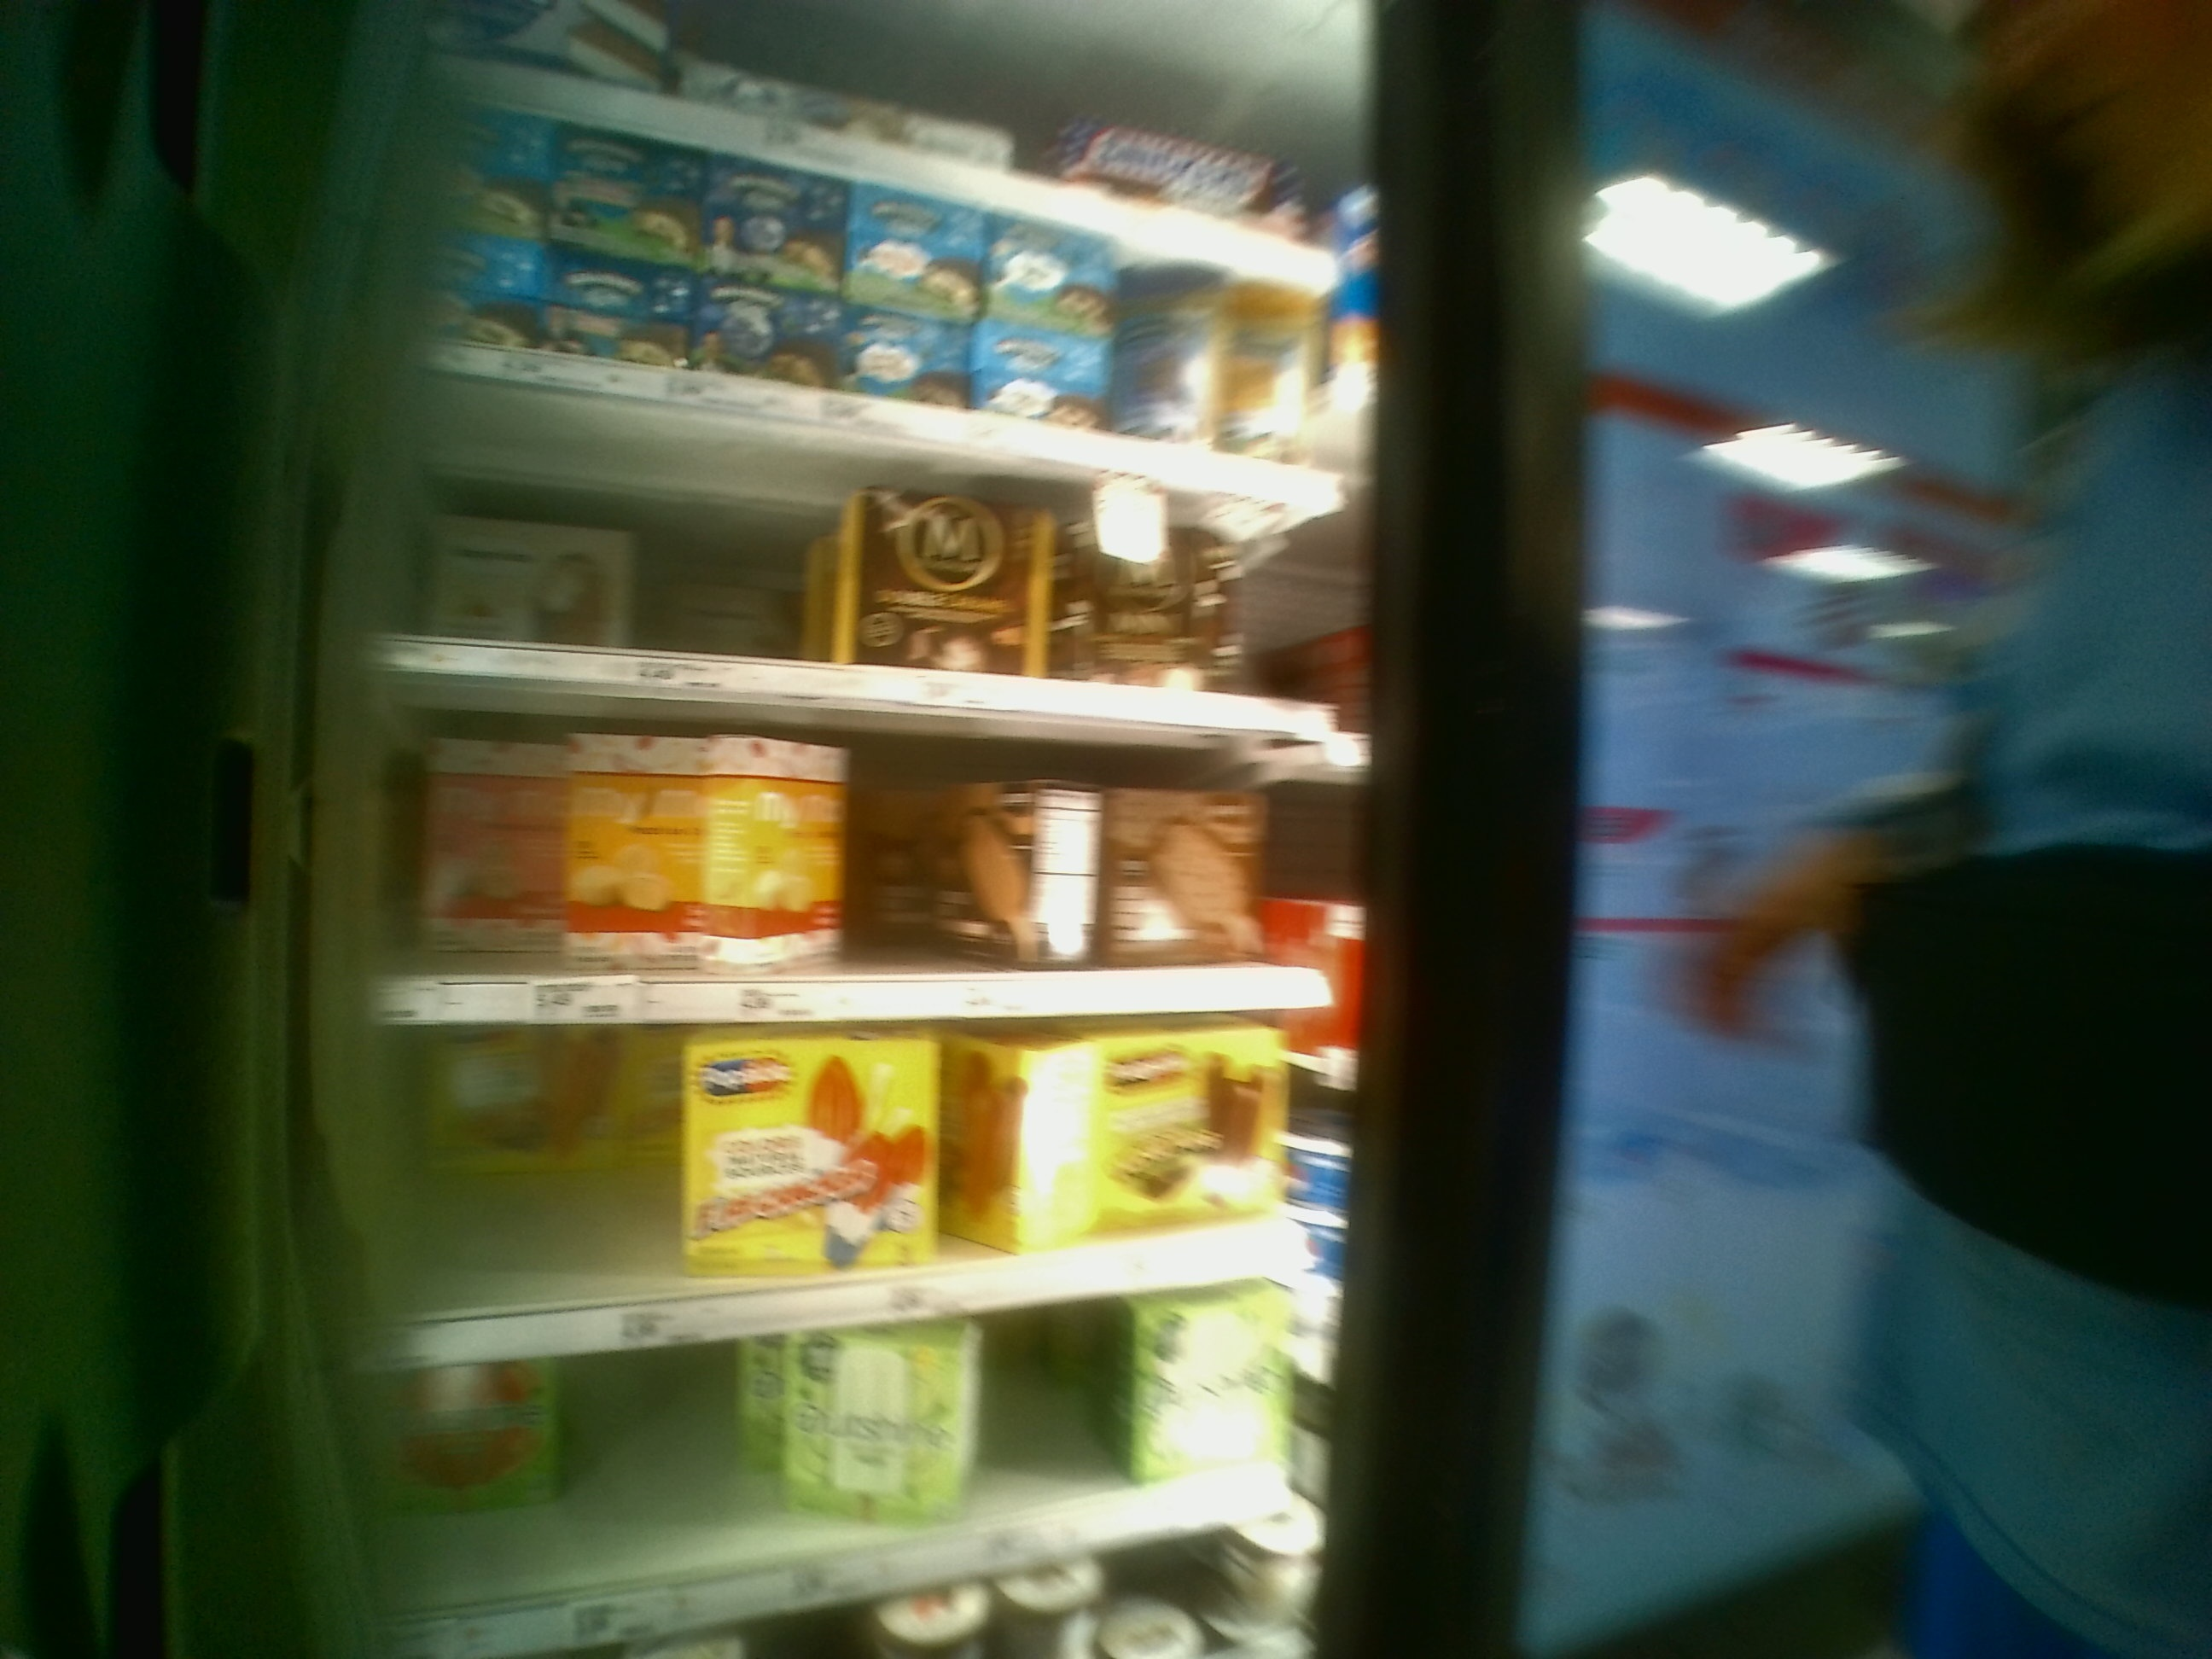shelf: (383, 664, 1360, 1025), (381, 1019, 1355, 1359)
